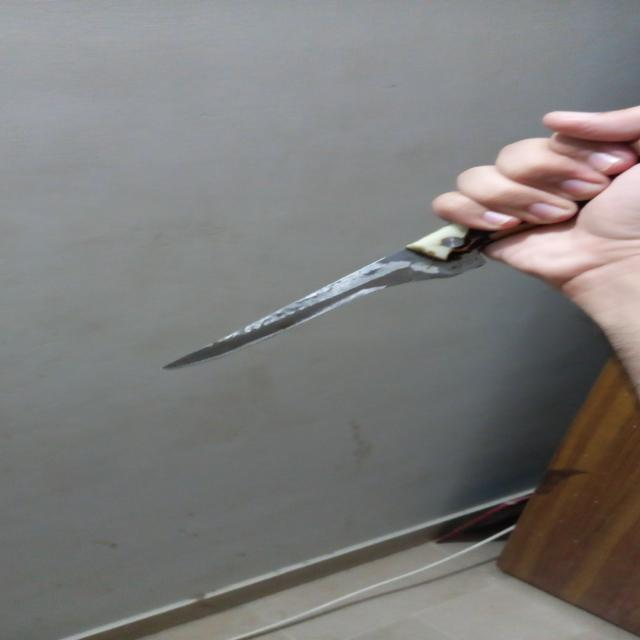knife: (150, 185, 514, 385)
